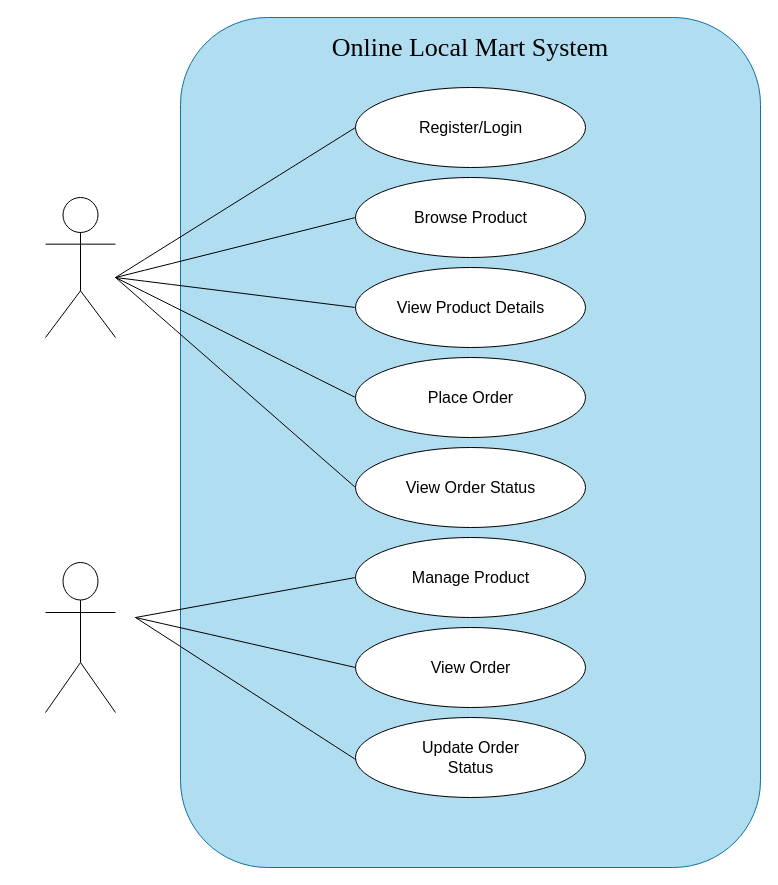
Image size: 778x885. Some labels were removed from this diagram. The shapes that lost their labels are listed below. From the top down, each one's centre as x and y in pixels, then its label:
At (80,267): "Customer".
At (80,637): "System admin (Online Local Mart Staff)".
